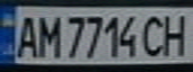1: (103, 12, 124, 59)
4: (118, 11, 142, 58)
7: (84, 11, 106, 60), (63, 12, 84, 59)
A: (12, 11, 42, 58)
C: (139, 11, 169, 58)
H: (157, 10, 193, 57)
M: (33, 11, 63, 58)
